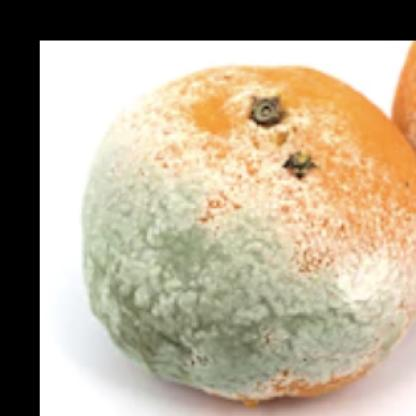rotten: (82, 62, 416, 405)
